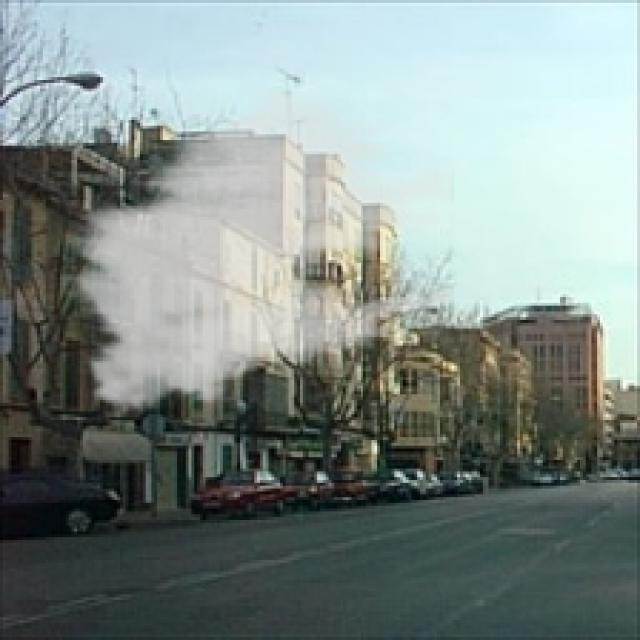smoke: (57, 77, 454, 429)
